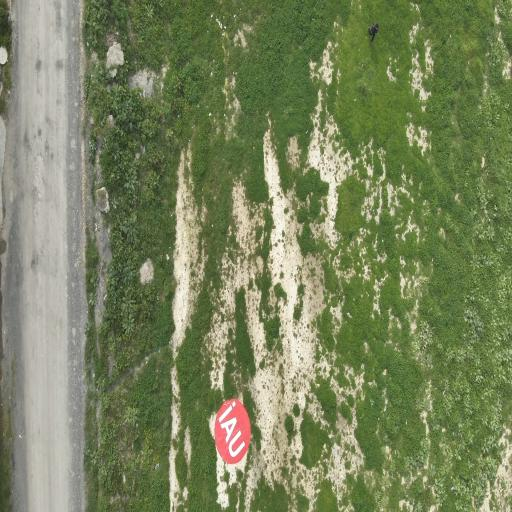UAI: (215, 399, 250, 463)
person: (369, 23, 378, 41)
